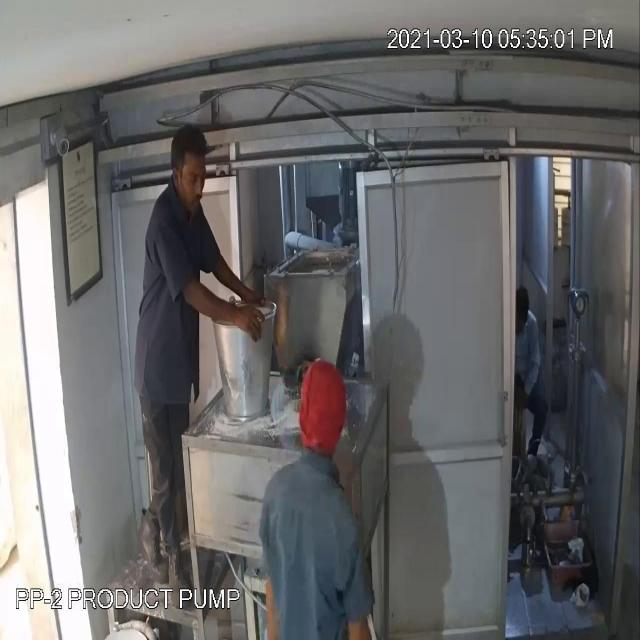No_Gloves: (189, 265, 266, 351)
